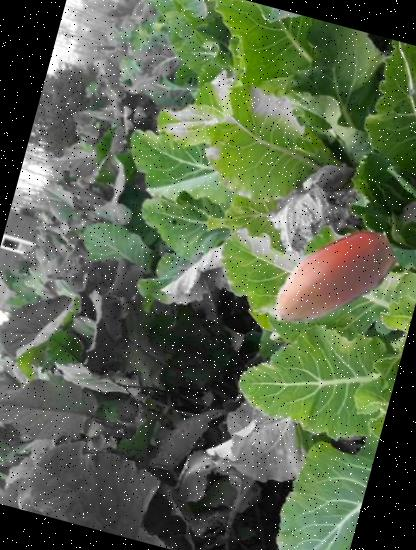Hazelnut: (247, 194, 414, 362)
